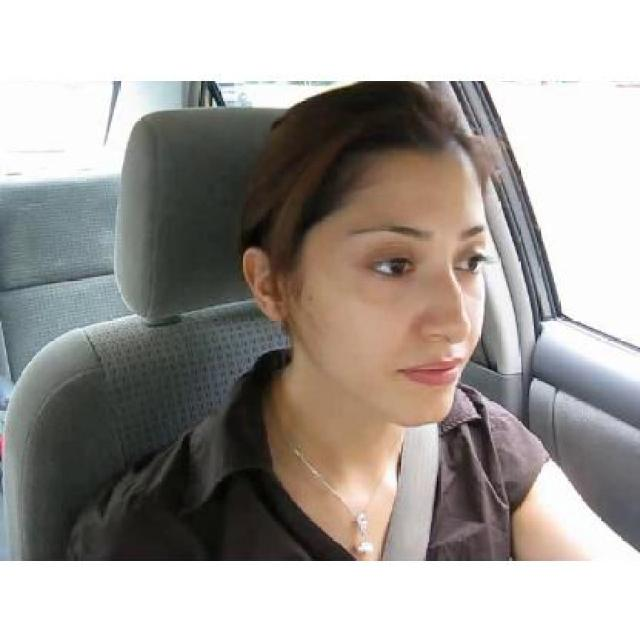attentif: (243, 81, 486, 427)
